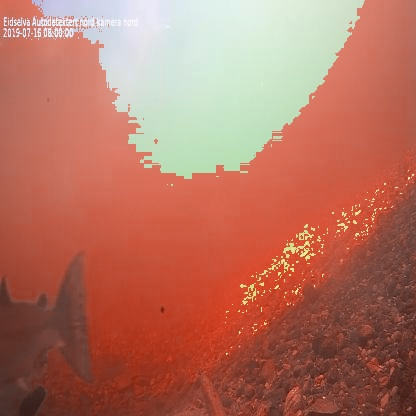salmon: (0, 246, 100, 393)
